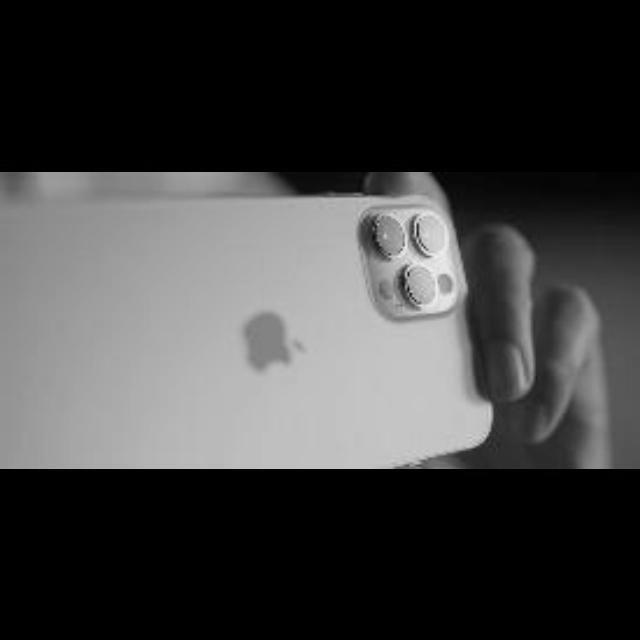fake: (0, 192, 510, 468)
